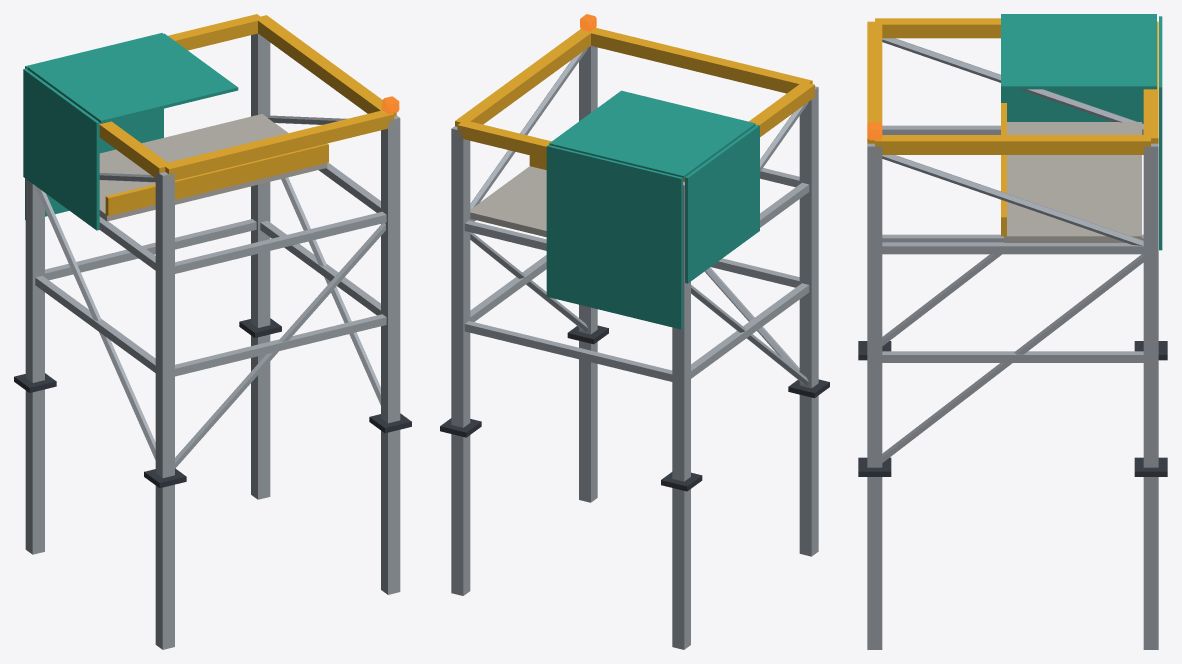
Rendered from construction_scaffold.glb.
3 renders of one model, left to right at view 1: azimuth 30°, elevation 25°; view 2: azimuth 150°, elevation 25°; view 3: azimuth 270°, elevation 25°, orthographic. The views are drawn at different scales.
Visible parts, largest first — view 1: construction_scaffold; view 2: construction_scaffold; view 3: construction_scaffold.
Part boxes in pixels (x1,y1,x2,y2): construction_scaffold: (14, 14, 411, 649); construction_scaffold: (440, 14, 829, 649); construction_scaffold: (858, 14, 1167, 649).
Size of the model in its own units: 1.03 by 1.92 by 1.03.
